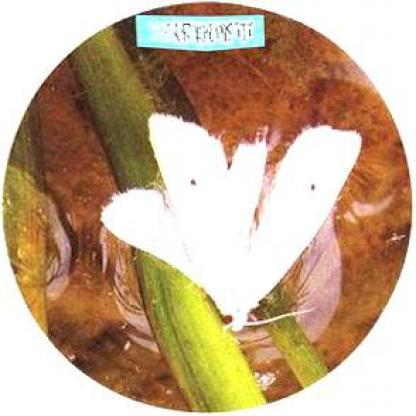stem-borer: (101, 112, 362, 334)
